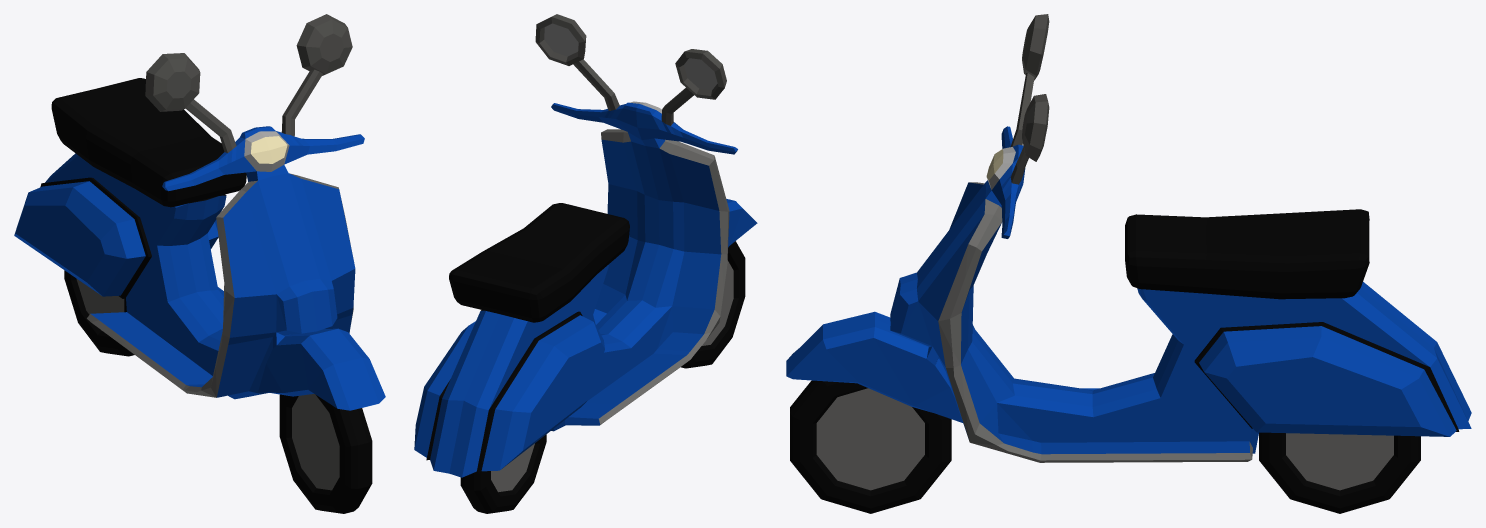
File: moto.fbx
3 renders of one model, left to right at view 1: azimuth 30°, elevation 25°; view 2: azimuth 150°, elevation 25°; view 3: azimuth 270°, elevation 25°, orthographic. The views are drawn at different scales.
Parts seen in each view (by area): view 1: pasted__pasted__Mesh; view 2: pasted__pasted__Mesh; view 3: pasted__pasted__Mesh.
Part boxes in pixels (bbox=[...]): pasted__pasted__Mesh: bbox=[14, 14, 385, 513]; pasted__pasted__Mesh: bbox=[414, 14, 757, 513]; pasted__pasted__Mesh: bbox=[786, 14, 1471, 513].
Size of the model in its own units: 204 by 396 by 542.
